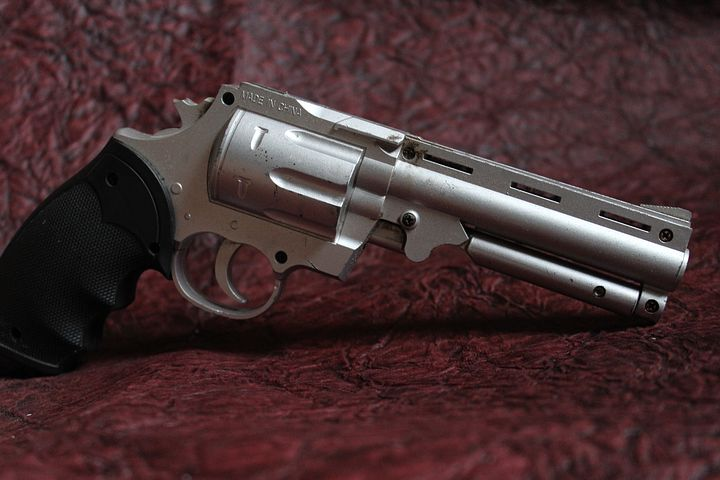gun: (4, 79, 697, 329)
